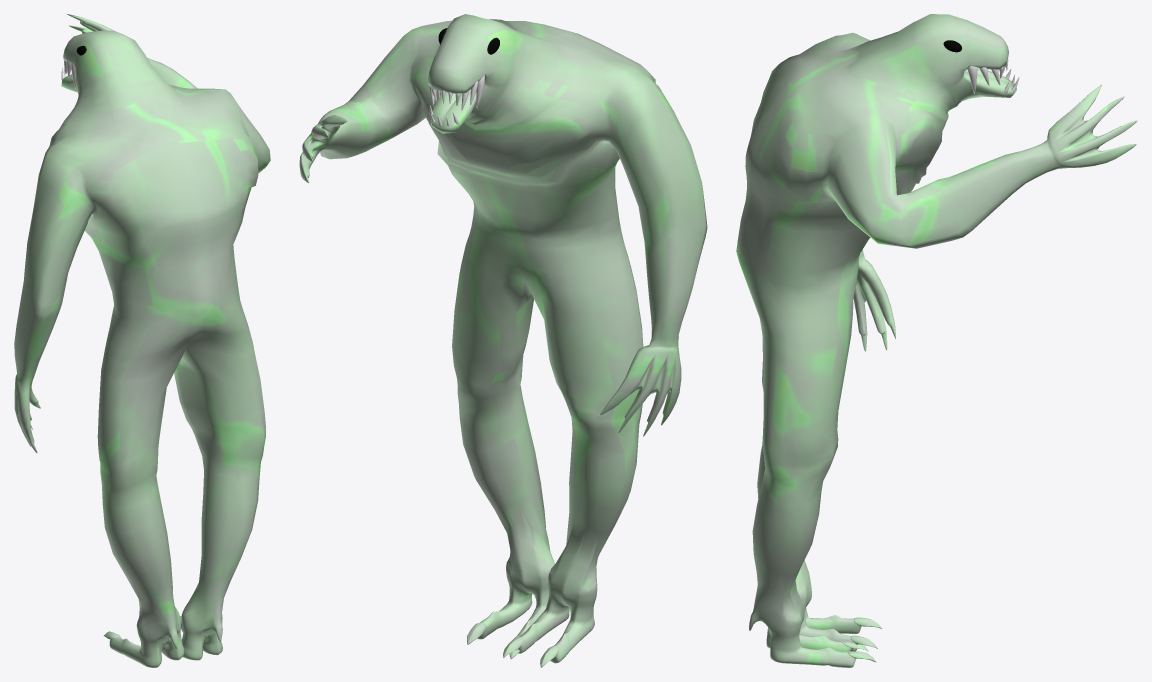
Rendered from Berserkercorrer.0012.obj.
3 views of the same model, side by side, from view 1: azimuth 30°, elevation 25°; view 2: azimuth 150°, elevation 25°; view 3: azimuth 270°, elevation 25° (orthographic). The views are drawn at different scales.
Parts seen in each view (by area): view 1: polySurface27; view 2: polySurface27; view 3: polySurface27.
Part boxes in pixels (left/top/right/bottom): polySurface27: left=14, top=14, right=270, bottom=667; polySurface27: left=299, top=14, right=707, bottom=667; polySurface27: left=736, top=14, right=1137, bottom=667.
Bounding box in the file's own units: 11.73 × 23.96 × 13.74.
1 material, 1 textured.
